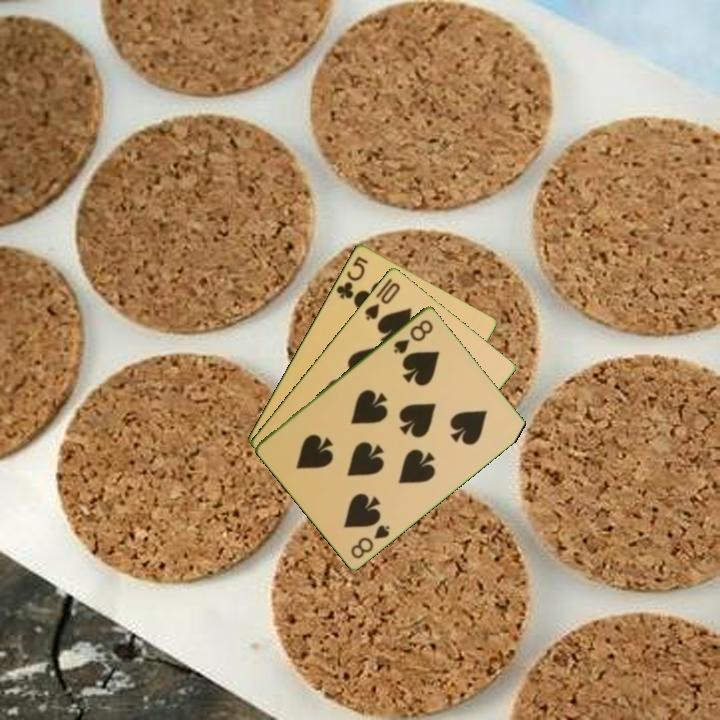10s: (361, 278, 403, 323)
5c: (332, 252, 371, 302)
8s: (390, 316, 436, 356), (347, 521, 393, 561)
